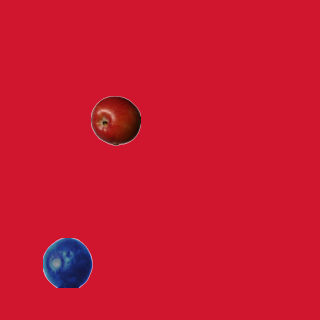Apple Braeburn: (90, 95, 140, 145)
Huckleberry: (42, 237, 92, 287)
